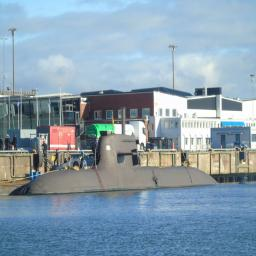submarine: (17, 106, 221, 196)
